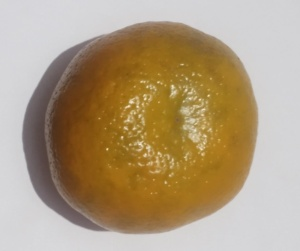BAD: (41, 17, 263, 236)
